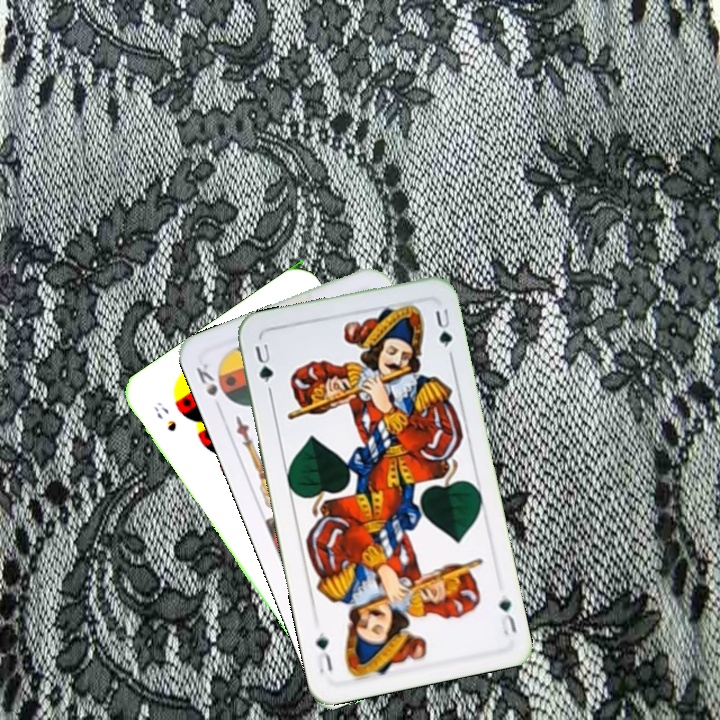GU: (250, 339, 276, 385), (495, 590, 519, 638)
S8: (150, 397, 179, 435)
SK: (192, 359, 221, 399)
